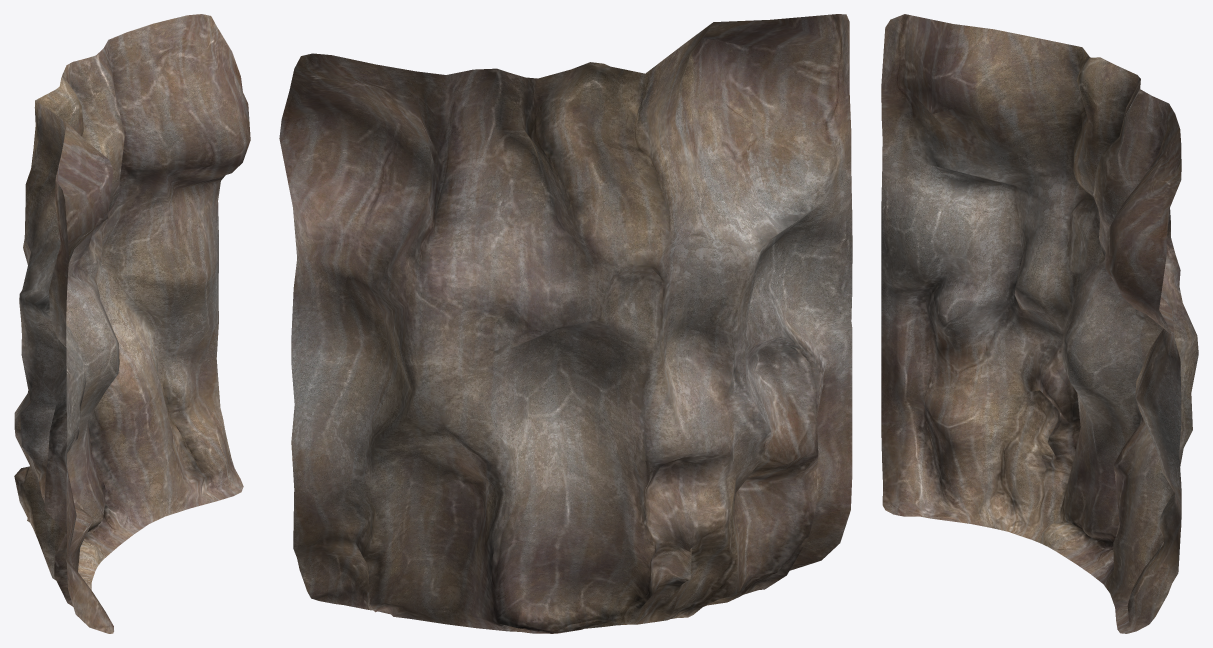
The model's file is cave_ravine_wall_sand_01_concave_lopoly.dae.
The picture shows the model from 3 angles, left to right: view 1: azimuth 30°, elevation 25°; view 2: azimuth 150°, elevation 25°; view 3: azimuth 270°, elevation 25°; orthographic projection. The views are drawn at different scales.
Parts seen in each view (by area): view 1: Mesh; view 2: Mesh; view 3: Mesh.
Boxes of the visible parts, bbox=[...] form: Mesh: bbox=[14, 14, 250, 633]; Mesh: bbox=[279, 14, 852, 633]; Mesh: bbox=[881, 14, 1198, 633].
Size of the model in its own units: 2.87 by 4.11 by 2.42.
